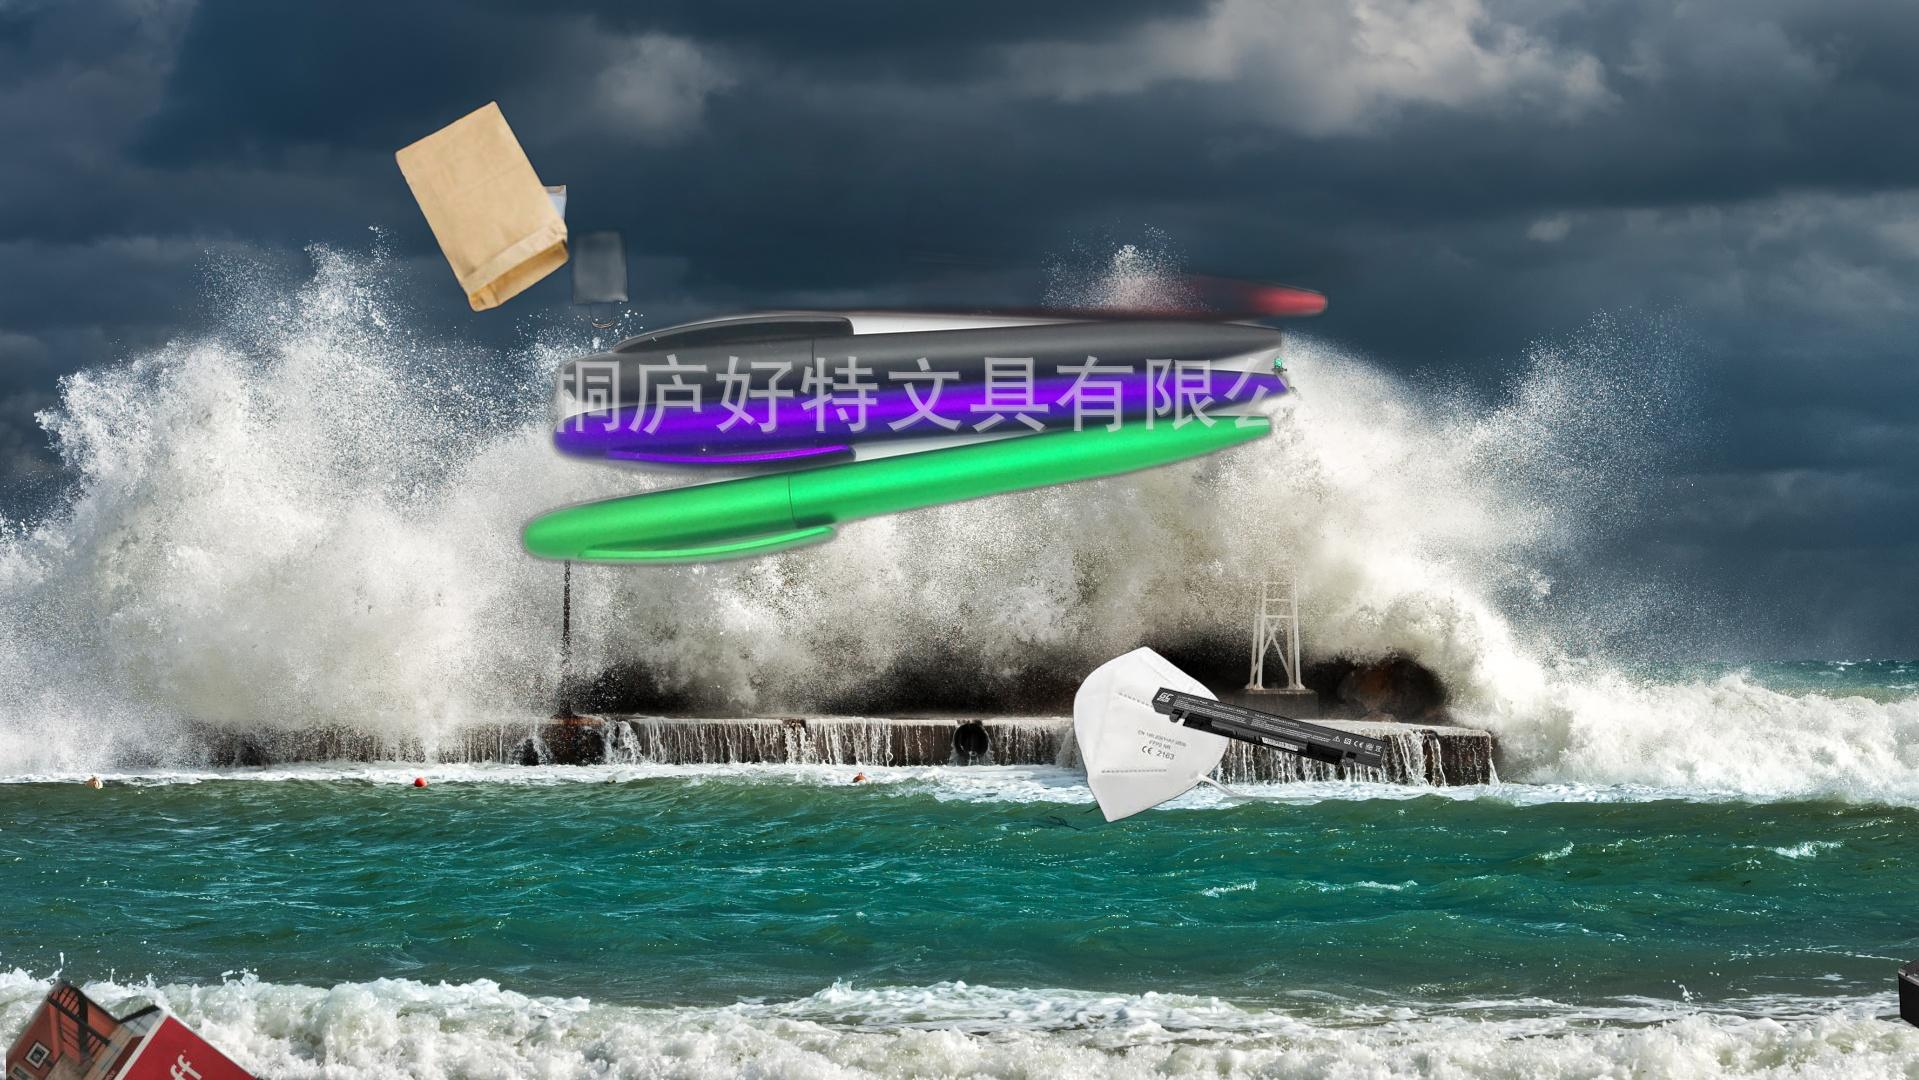battery: (1149, 684, 1390, 771), (1894, 887, 1919, 1062)
paper: (7, 901, 518, 1080)
paper-bag: (390, 98, 633, 347)
penholder: (510, 107, 1426, 576)
trash: (1070, 644, 1267, 825)
